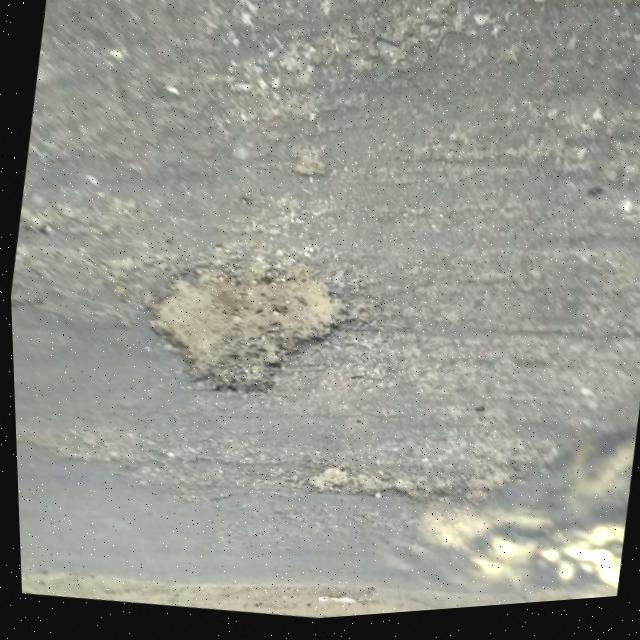pothole: (132, 247, 356, 421), (303, 456, 470, 532)
